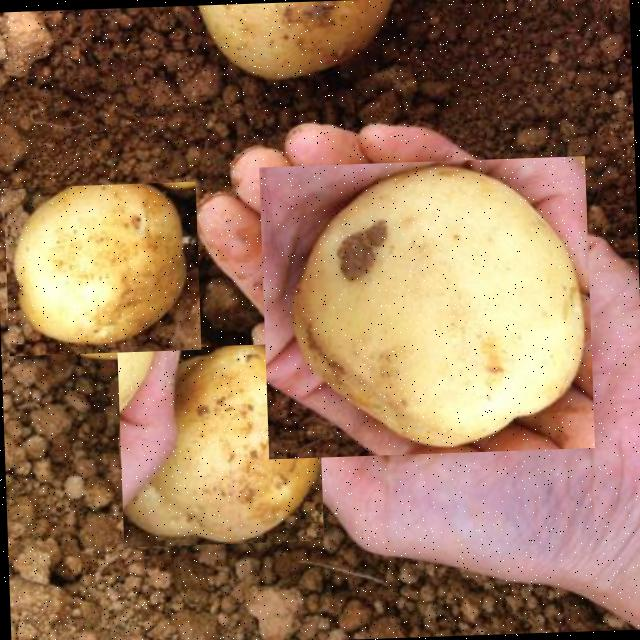Potato: (258, 155, 594, 458), (117, 341, 324, 546), (3, 180, 201, 355)
